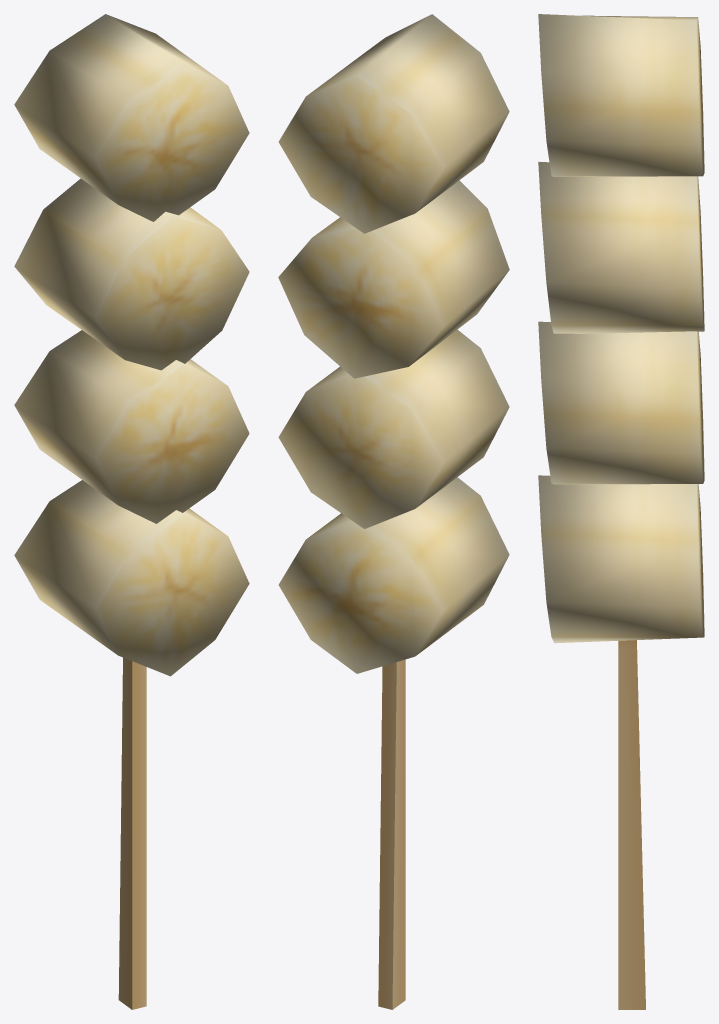
Rendered from jsf_ChocolateBanana_b.fbx.
3 views of the same model, side by side, from view 1: azimuth 30°, elevation 25°; view 2: azimuth 150°, elevation 25°; view 3: azimuth 270°, elevation 25° (orthographic). The views are drawn at different scales.
Visible parts, largest first — view 1: jsf_ChocolateBanana_b; view 2: jsf_ChocolateBanana_b; view 3: jsf_ChocolateBanana_b.
Part boxes in pixels (left/top/right/bottom): jsf_ChocolateBanana_b: left=14, top=14, right=249, bottom=1009; jsf_ChocolateBanana_b: left=278, top=14, right=509, bottom=1009; jsf_ChocolateBanana_b: left=538, top=14, right=704, bottom=1009.
Bounding box in the file's own units: 4.05 × 22.49 × 3.41.
